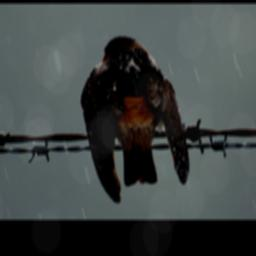Swallow: (80, 36, 192, 205)
